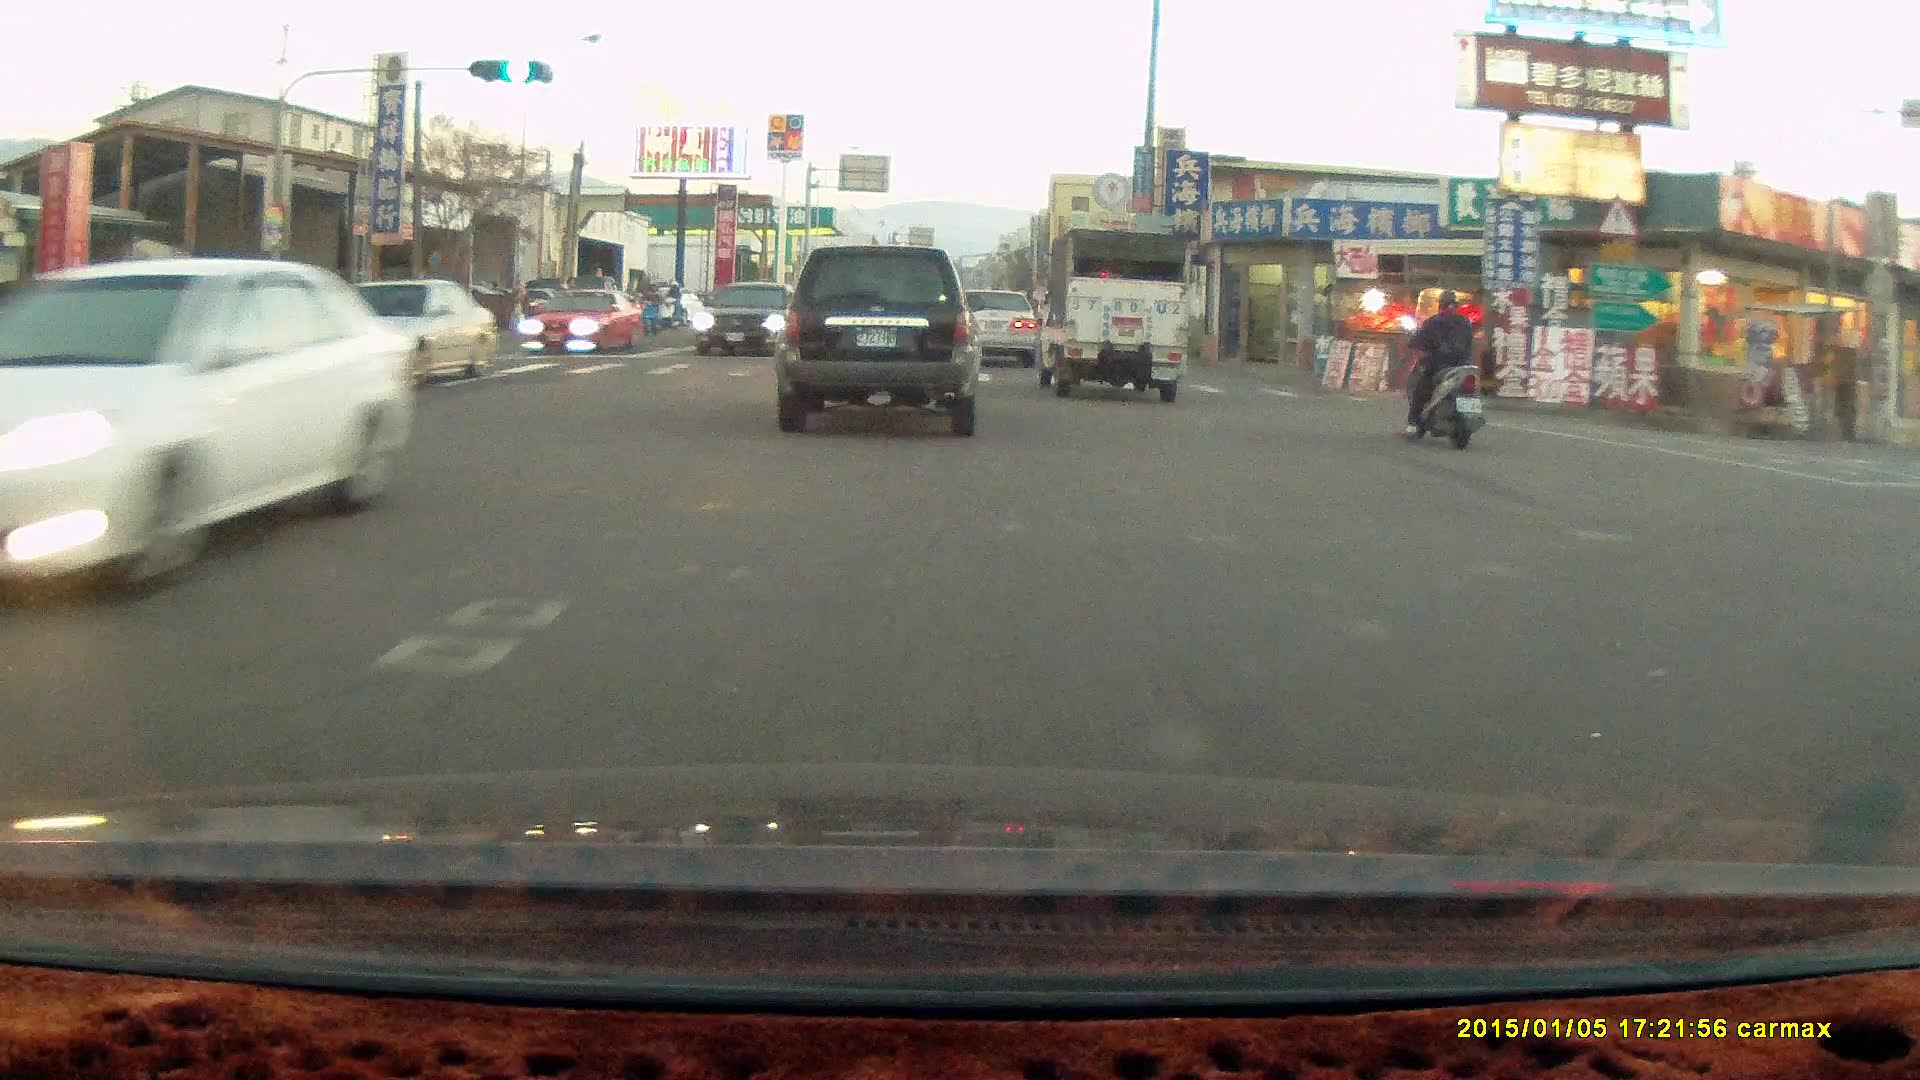rider: (1396, 283, 1484, 444), (633, 283, 667, 333), (653, 279, 685, 330)
vehicle: (1, 256, 429, 595), (772, 244, 987, 435), (260, 282, 493, 404), (1028, 227, 1186, 402), (693, 281, 814, 358), (133, 280, 293, 335), (532, 285, 642, 357), (946, 286, 1038, 368), (953, 289, 1040, 371)
